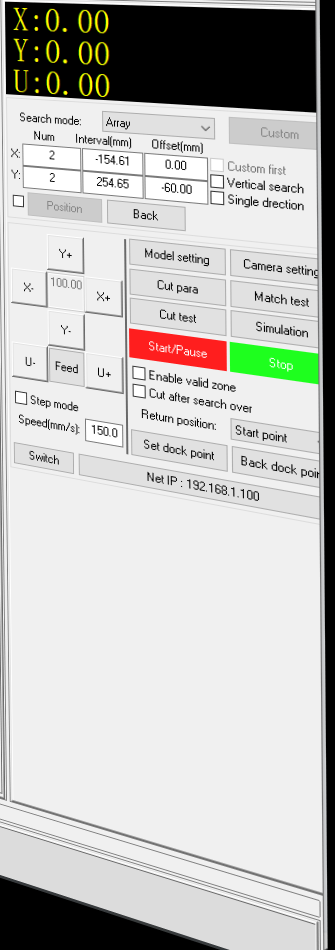start: (130, 326, 226, 367)
timer: (144, 139, 208, 203)
